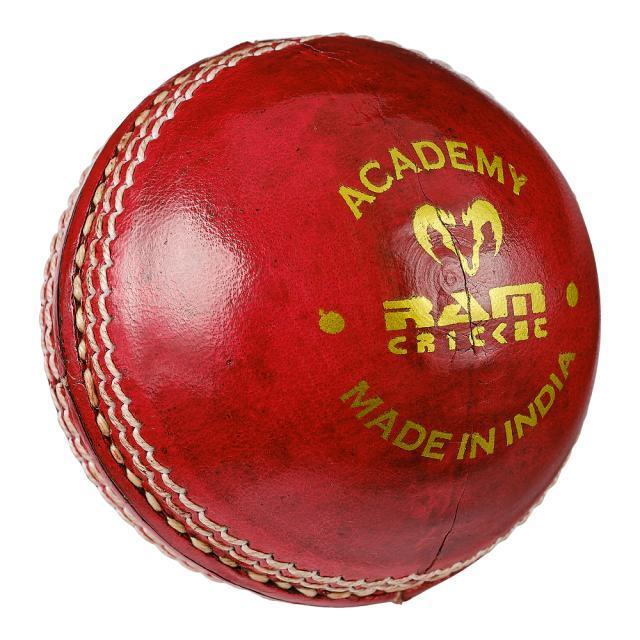cricket ball: (37, 31, 602, 608)
